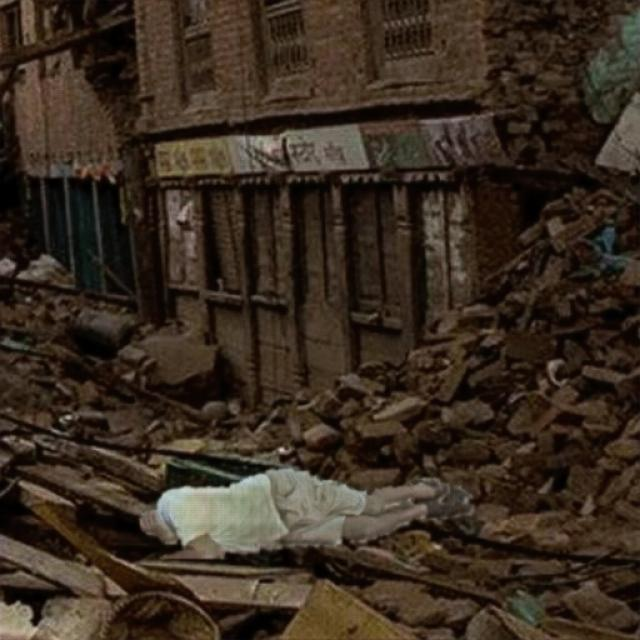Person in Rubble: (138, 468, 472, 558)
